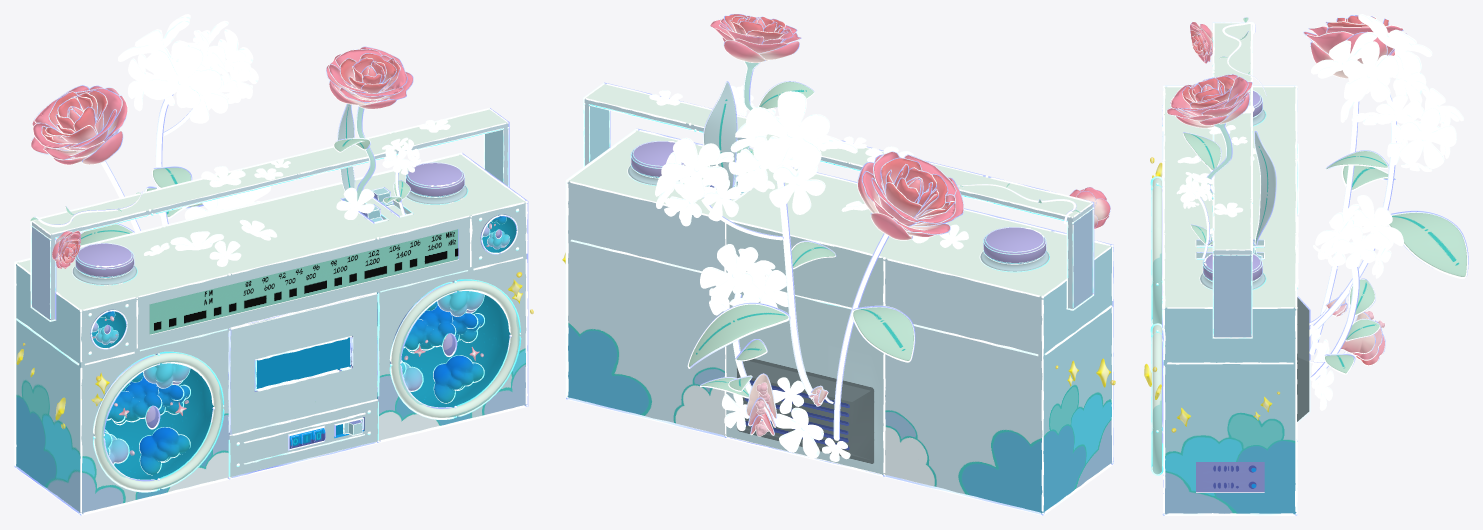
3 views of the same model, side by side, from view 1: azimuth 30°, elevation 25°; view 2: azimuth 150°, elevation 25°; view 3: azimuth 270°, elevation 25° (orthographic). The views are drawn at different scales.
Parts seen in each view (by area): view 1: Boombox_Main_primitive2, Boombox_Main_primitive8, Boombox_Main_primitive0, Cassette Door_primitive4, Handle_primitive0, Screen_primitive0, Rose.002_primitive2, Boombox_Main_primitive1, Rose_primitive2, Boombox_Main_primitive6, Knob.001_primitive1, Cloud.001_primitive0 (+24 smaller); view 2: Boombox_Main_primitive2, Boombox_Main_primitive0, Handle_primitive0, Rose.002_primitive2, Boombox_Main_primitive6, Rose.002_primitive1, Rose_primitive2, Daisy Stem_primitive2, Daisy.033_primitive0, Knob.001_primitive1, Rose.002_primitive3, Boombox_Main_primitive1 (+27 smaller); view 3: Boombox_Main_primitive2, Handle_primitive0, Boombox_Main_primitive0, Daisy Stem_primitive2, Rose_primitive2, Boombox_Main_primitive8, Boombox_Main_primitive6, Vent Buttons_primitive0, Rose.002_primitive2, Rose_primitive1, Daisy.028_primitive0, Daisy Stem.002_primitive0 (+38 smaller).
Part boxes in pixels (x1=…): Boombox_Main_primitive2: x1=16, y1=154, x2=526, y2=513; Boombox_Main_primitive8: x1=90, y1=217, x2=519, y2=490; Boombox_Main_primitive0: x1=165, y1=191, x2=377, y2=477; Cassette Door_primitive4: x1=229, y1=293, x2=377, y2=434; Handle_primitive0: x1=32, y1=109, x2=508, y2=320; Screen_primitive0: x1=149, y1=229, x2=458, y2=334; Rose.002_primitive2: x1=31, y1=85, x2=127, y2=164; Boombox_Main_primitive1: x1=14, y1=152, x2=528, y2=515; Rose_primitive2: x1=326, y1=47, x2=412, y2=108; Boombox_Main_primitive6: x1=14, y1=153, x2=527, y2=512; Knob.001_primitive1: x1=72, y1=243, x2=136, y2=284; Cloud.001_primitive0: x1=107, y1=376, x2=189, y2=424; Boombox_Main_primitive2: x1=567, y1=130, x2=1112, y2=513; Boombox_Main_primitive0: x1=726, y1=169, x2=908, y2=474; Handle_primitive0: x1=584, y1=84, x2=1092, y2=308; Rose.002_primitive2: x1=858, y1=152, x2=963, y2=239; Boombox_Main_primitive6: x1=566, y1=128, x2=1113, y2=511; Rose.002_primitive1: x1=833, y1=151, x2=963, y2=440; Rose_primitive2: x1=710, y1=14, x2=800, y2=62; Daisy Stem_primitive2: x1=689, y1=242, x2=835, y2=366; Daisy.033_primitive0: x1=750, y1=94, x2=825, y2=167; Knob.001_primitive1: x1=980, y1=227, x2=1049, y2=271; Rose.002_primitive3: x1=853, y1=307, x2=913, y2=360; Boombox_Main_primitive1: x1=565, y1=128, x2=1113, y2=515; Boombox_Main_primitive2: x1=1164, y1=87, x2=1296, y2=514; Handle_primitive0: x1=1213, y1=23, x2=1251, y2=337; Boombox_Main_primitive0: x1=1164, y1=160, x2=1309, y2=421; Daisy Stem_primitive2: x1=1326, y1=151, x2=1466, y2=276; Rose_primitive2: x1=1167, y1=74, x2=1251, y2=127; Boombox_Main_primitive8: x1=1152, y1=178, x2=1161, y2=474; Boombox_Main_primitive6: x1=1162, y1=85, x2=1297, y2=512; Vent Buttons_primitive0: x1=1196, y1=462, x2=1264, y2=492; Rose.002_primitive2: x1=1304, y1=15, x2=1406, y2=78; Rose_primitive1: x1=1166, y1=74, x2=1255, y2=245; Daisy.028_primitive0: x1=1345, y1=43, x2=1396, y2=99; Daisy Stem.002_primitive0: x1=1325, y1=279, x2=1379, y2=373.
Bounding box in the file's own units: 2.8 × 2.08 × 1.62.
Materials: 29 (14 with a texture image).
